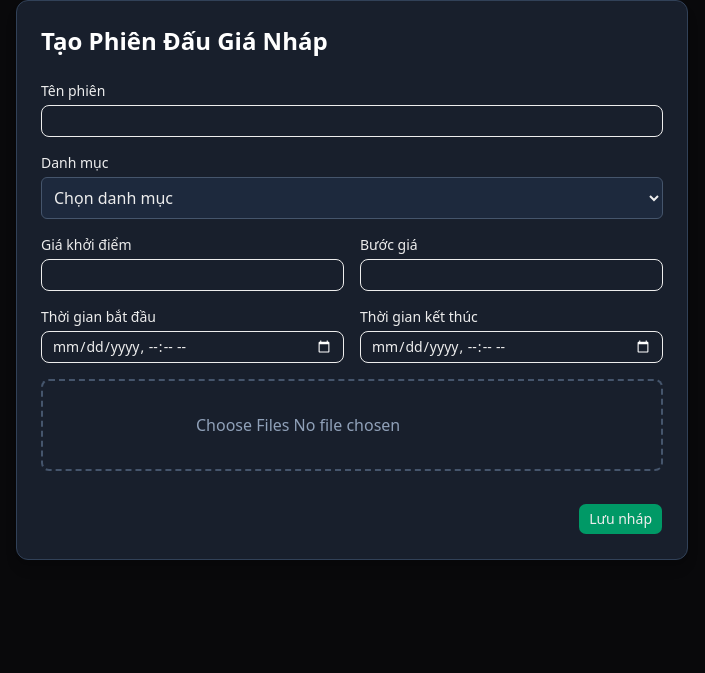
Test: CreateAuctionPage Validation › should show validation errors when submitting empty form
The image size is (705, 673).
Click the button "Lưu nháp": click(621, 519) x1=578 y1=503 x2=663 y2=535
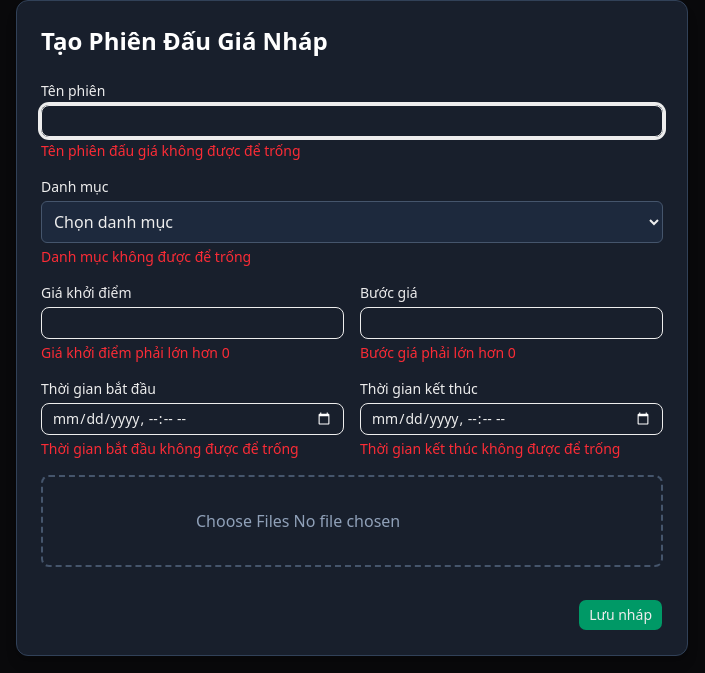
expect the text "Tên phiên đấu giá không được để trống" is shown: met, box x1=41 y1=141 x2=301 y2=160
expect the text "Giá khởi điểm phải lớn hơn 0" is shown: met, box x1=41 y1=343 x2=230 y2=362
